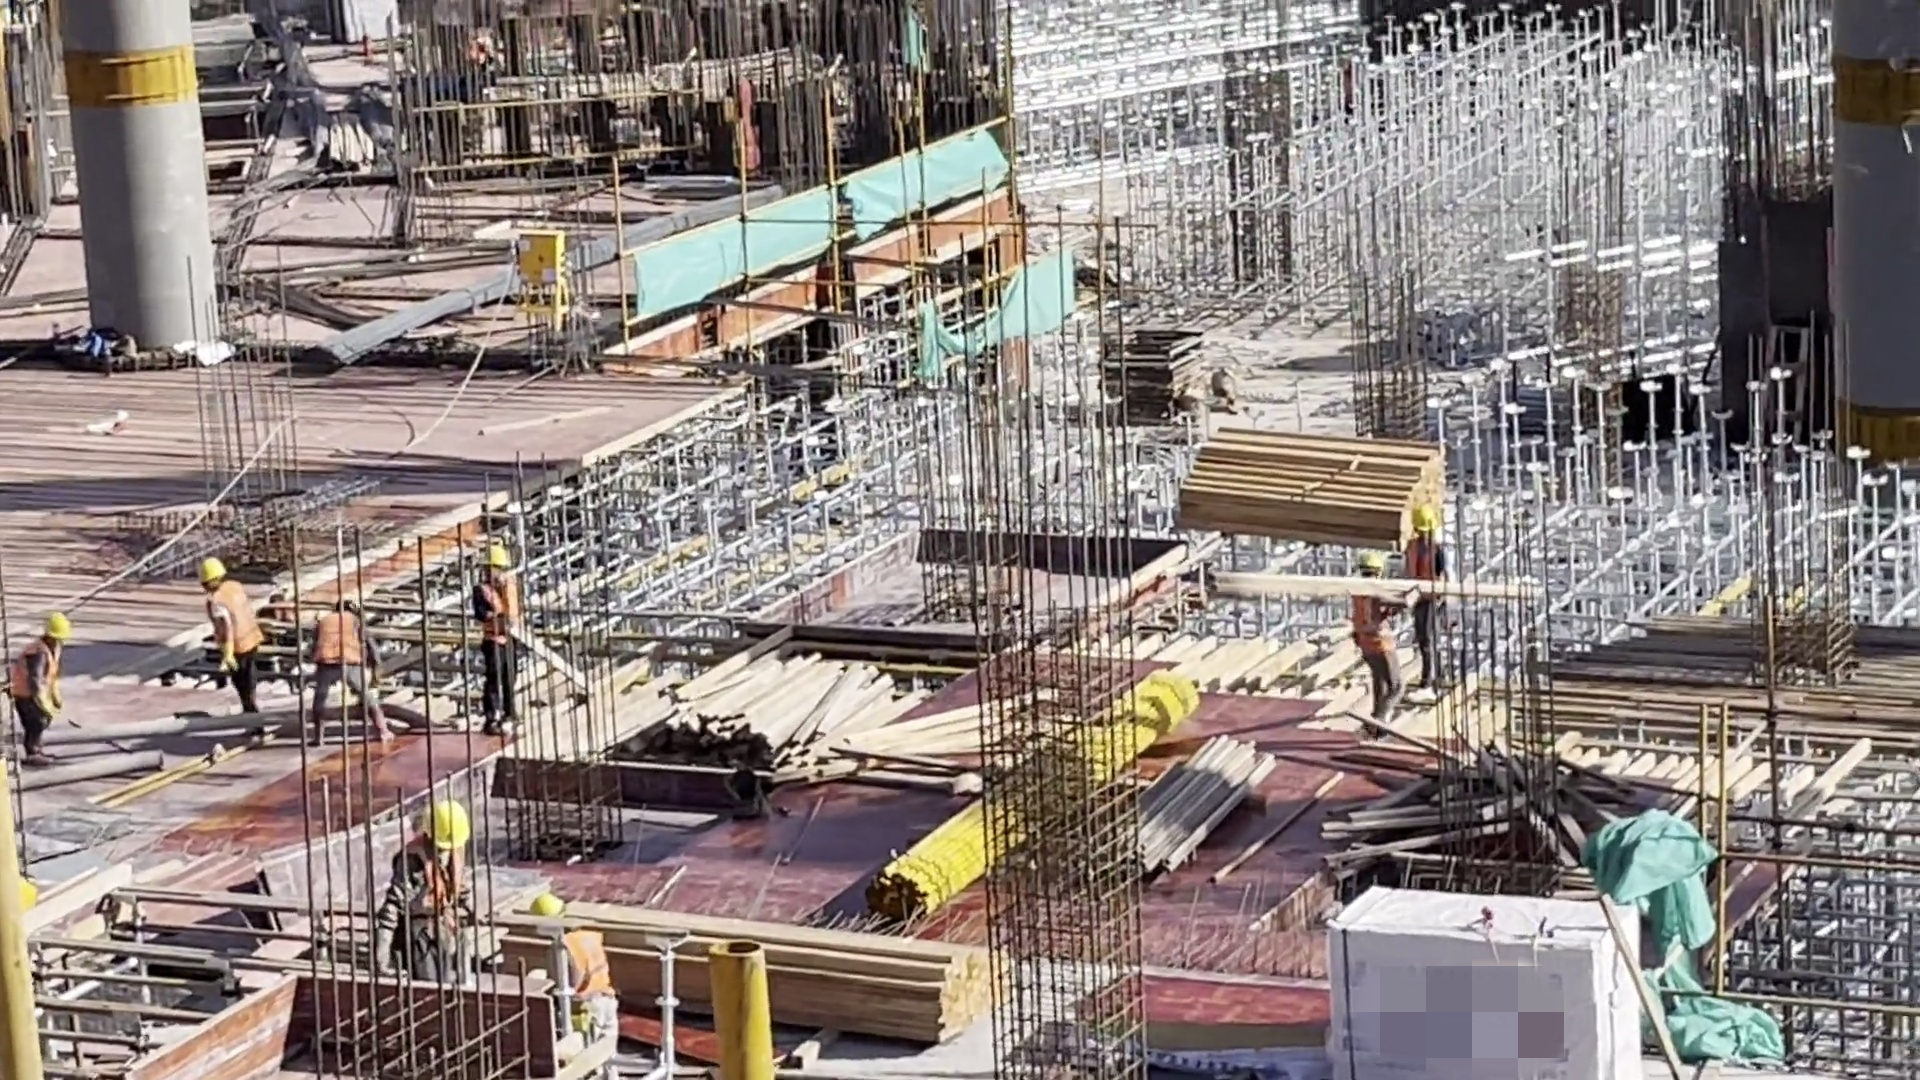helmet: (407, 793, 465, 848), (37, 606, 86, 661), (328, 585, 377, 628), (473, 545, 525, 584), (523, 892, 572, 931), (194, 548, 235, 582), (1361, 551, 1394, 582), (1411, 509, 1438, 538)
person: (507, 896, 638, 1062), (352, 808, 472, 982), (171, 553, 277, 723), (462, 541, 533, 734), (308, 598, 396, 750), (1393, 512, 1452, 703), (1, 611, 71, 768), (1339, 556, 1405, 720)
vest: (388, 857, 466, 938), (546, 927, 614, 1007), (318, 611, 385, 679), (196, 594, 262, 648), (469, 572, 523, 630), (7, 638, 55, 695), (1415, 534, 1448, 599), (1347, 587, 1386, 638)
